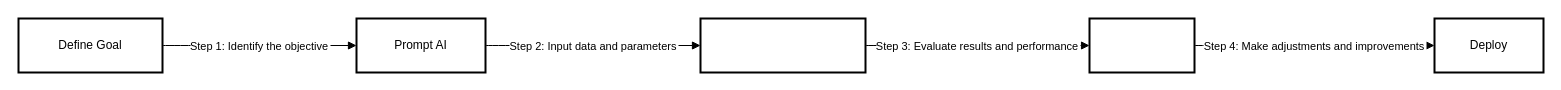
Image size: 1561x90. Some labels were removed from this diagram. The shapes that lost their labels are listed below. From the top down, each one's centre as x and y in pixels, then its label:
At (782,45): "Review Output".
At (1141,45): "Revise".
